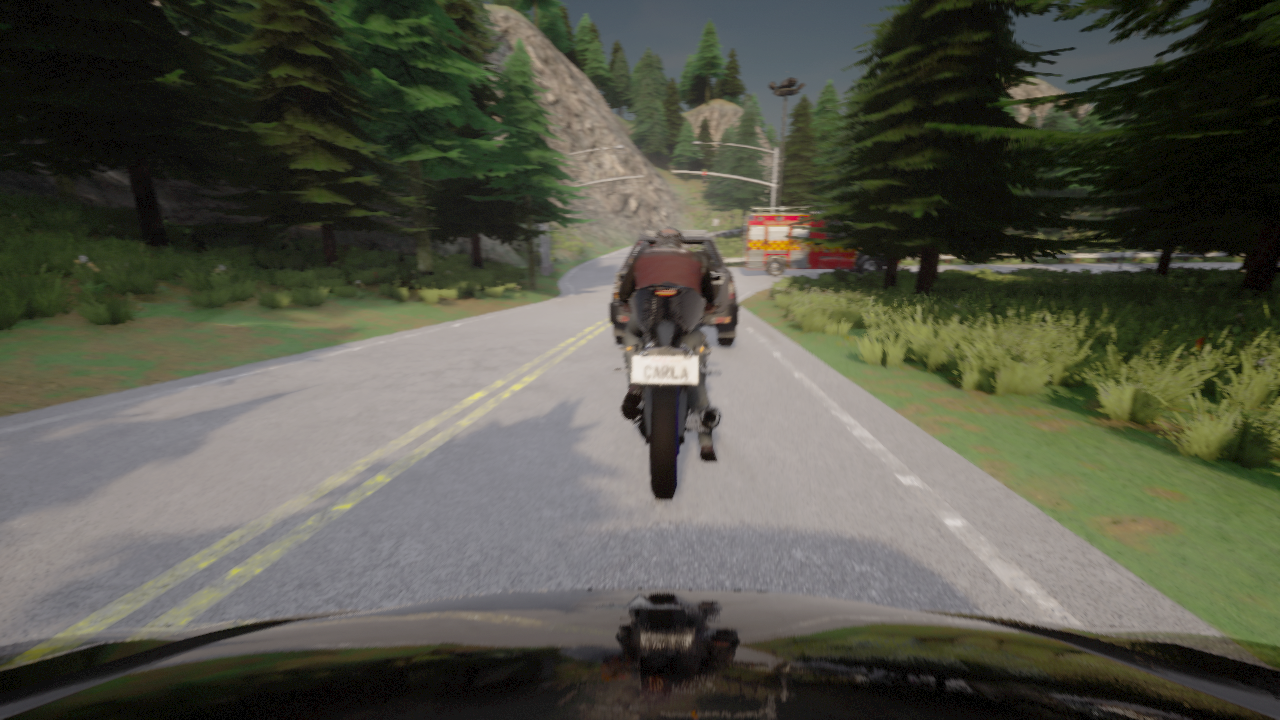cyclist: (0, 588, 1279, 719), (612, 272, 723, 499), (609, 230, 738, 346), (741, 206, 901, 275), (640, 233, 645, 235)
